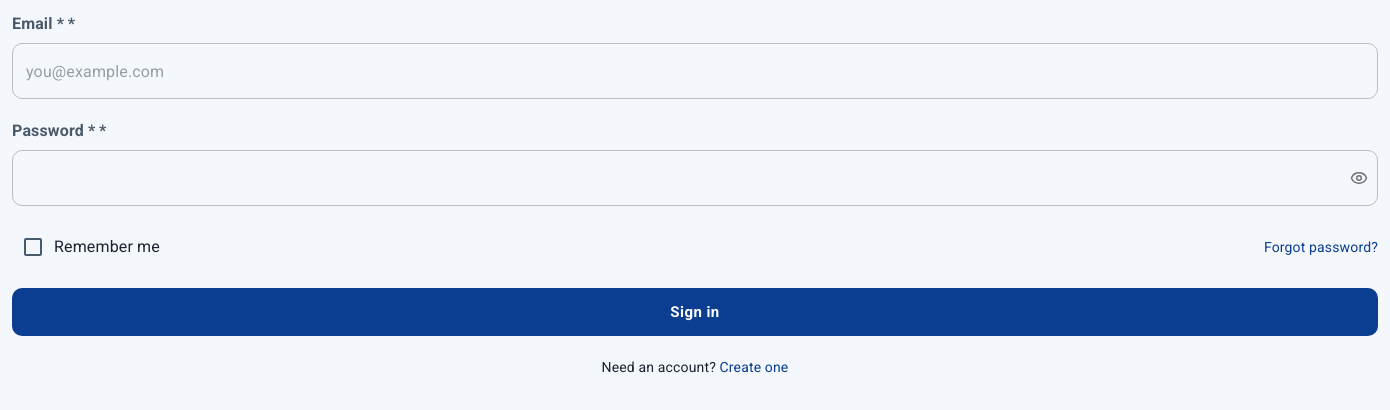
it: LoginForm › shows an error for an invalid email
Type "not-an-email" into the field labelled "Email * *".
click(695, 71); type("not-an-email")  # box [12,43,1378,99]
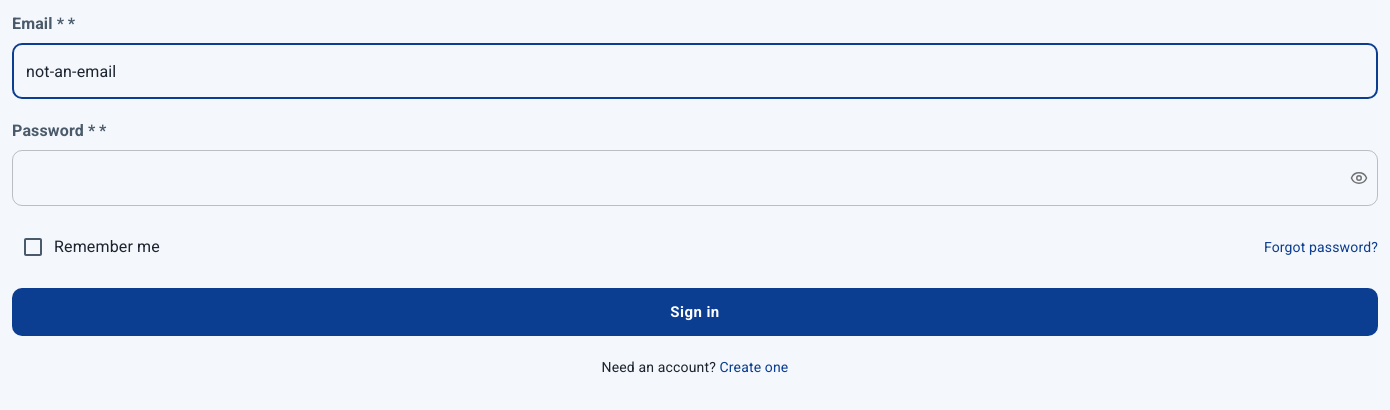
Type "Password123!" into the password field labelled "Password * *".
click(673, 178); type("Password123!")  # box [12,150,1334,206]
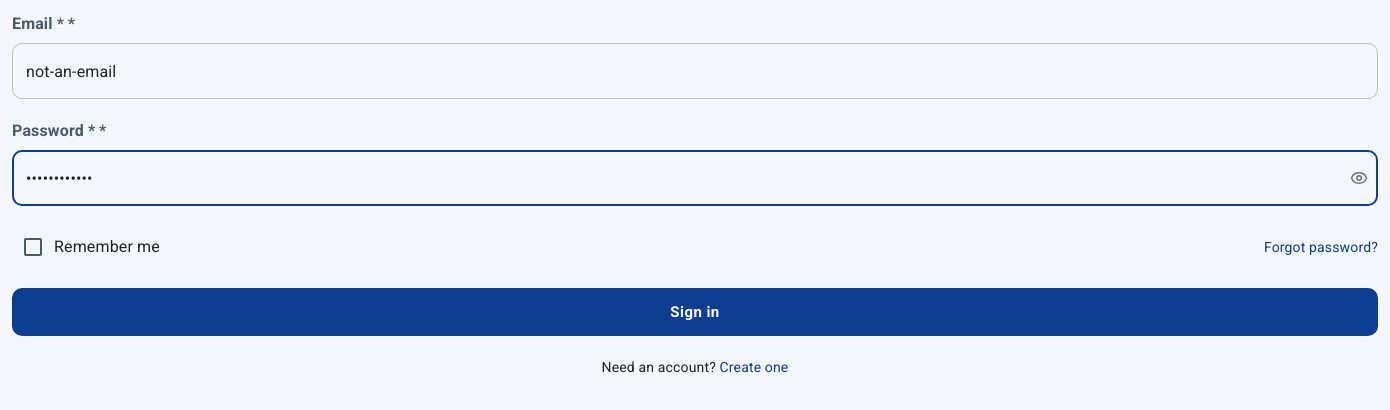
Click the button "Sign in".
click(695, 312)  # box [12,288,1378,336]
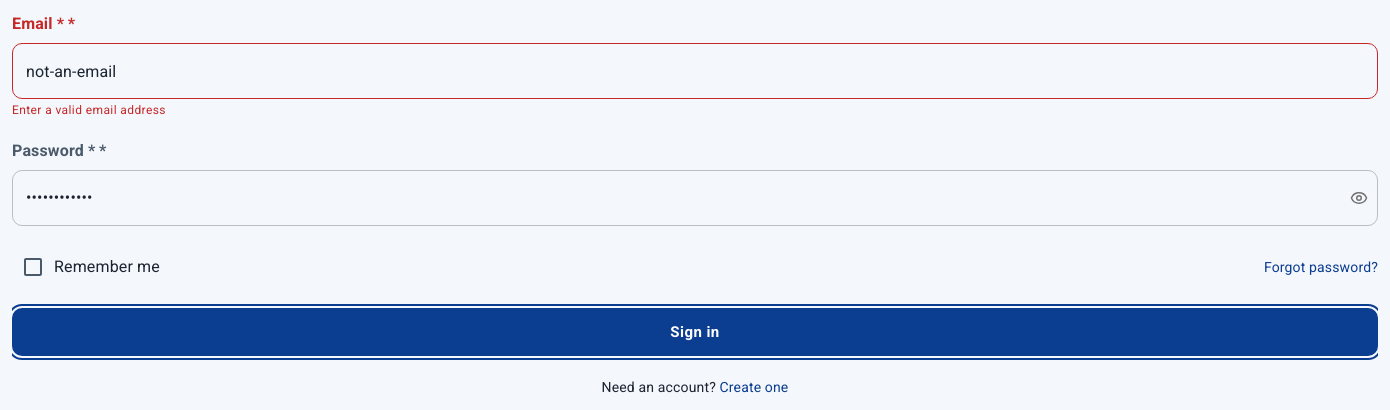
Check: the text "Enter a valid email address" is shown, box [12,103,166,117]
